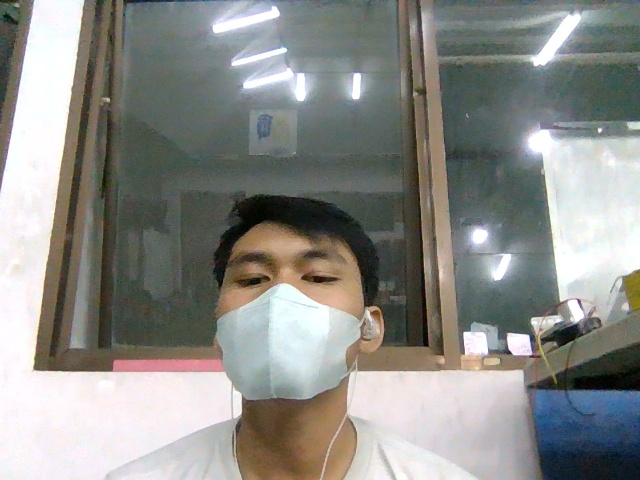mask_on: (217, 283, 361, 401)
